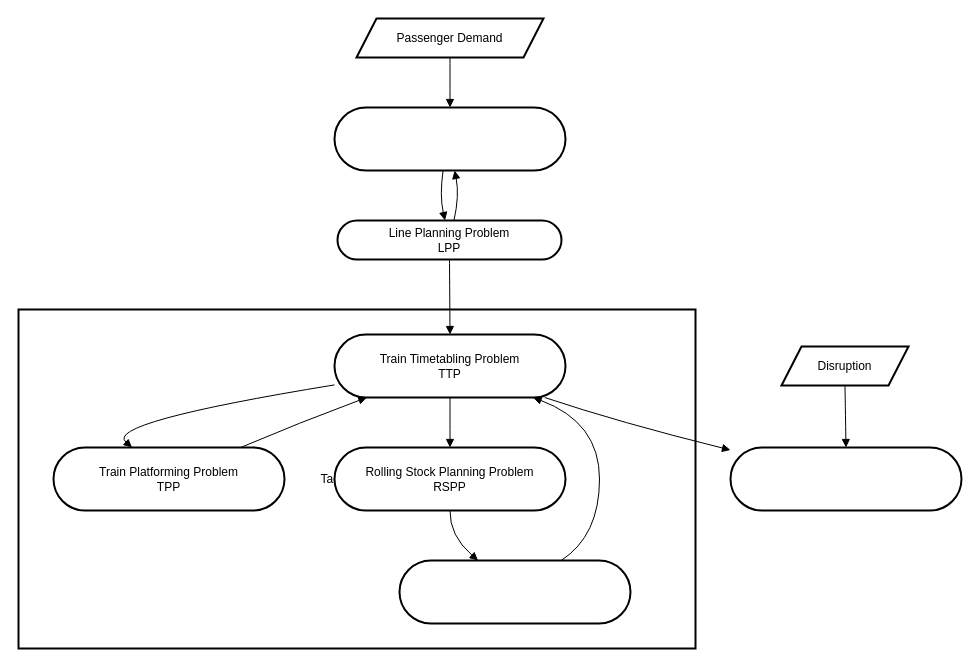
This 979x666 diagram has some shape labels left out. The shapes that lost their labels are listed below. From the top down, each one's centre as x and y in pixels, then its label:
(449,138): Network Planning Problem NPP
(845,478): Conflict Detection and Resolution Problem CDRP
(514,591): Crew Planning Problem CPP
